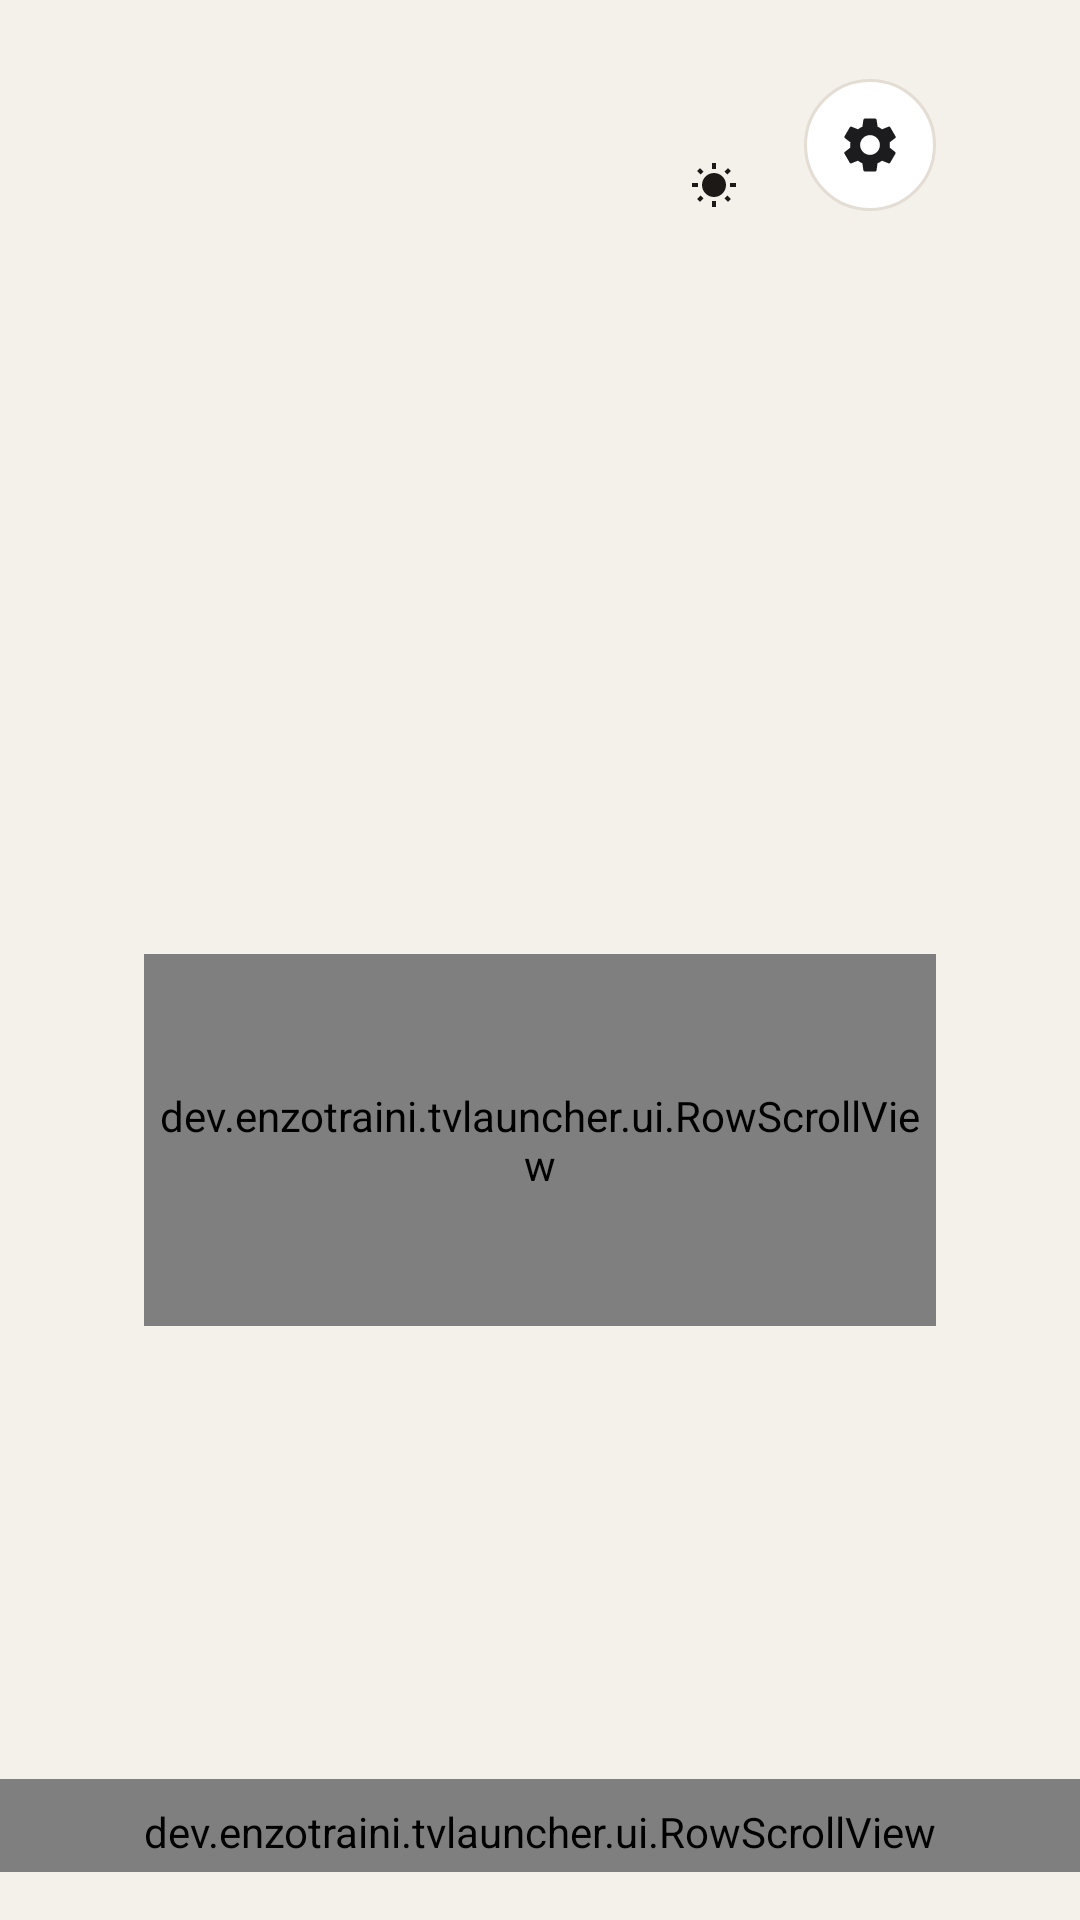

Point at icon controls on the screen. Image size 1080px×1920px, points as (x=x, y=y).
settings: (x=870, y=145)
weather: (x=714, y=185)
